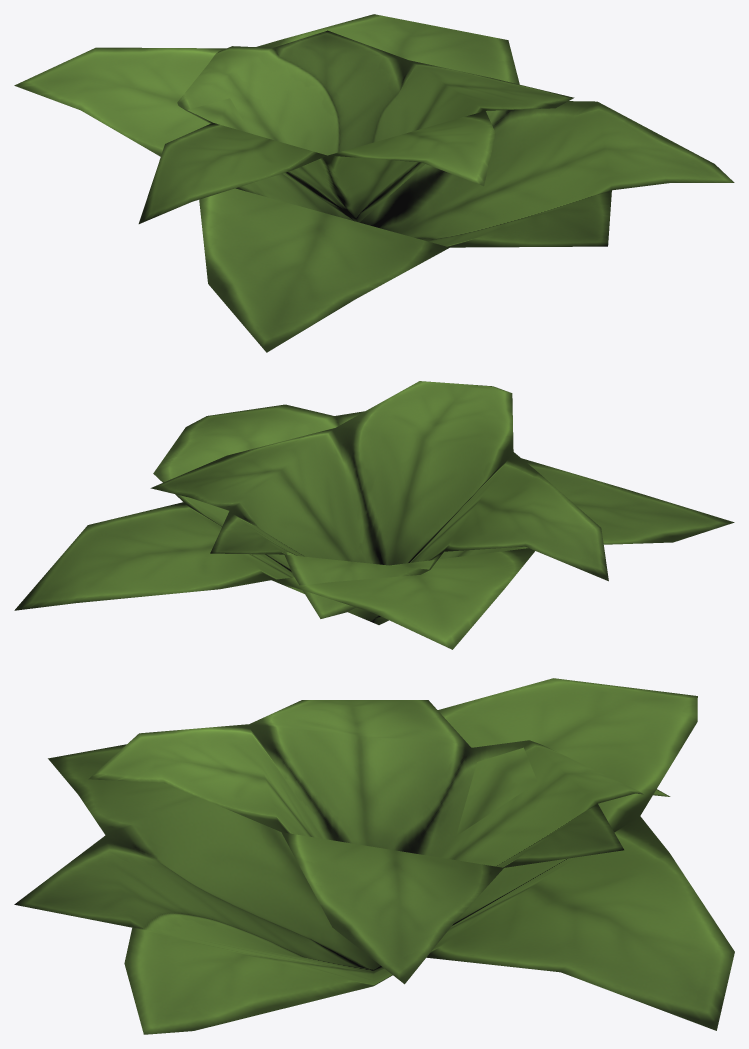
Rendered from Plant01_Small.fbx.
3 views of the same model, one above another, from view 1: azimuth 30°, elevation 25°; view 2: azimuth 150°, elevation 25°; view 3: azimuth 270°, elevation 25° (orthographic). The views are drawn at different scales.
Visible parts, largest first — view 1: Plant01_Small; view 2: Plant01_Small; view 3: Plant01_Small.
Boxes of the visible parts, <box> form: Plant01_Small: <box>14,14,734,352</box>; Plant01_Small: <box>14,381,734,649</box>; Plant01_Small: <box>14,678,734,1034</box>.
Bounding box in the file's own units: 22.31 × 7.48 × 22.97.
